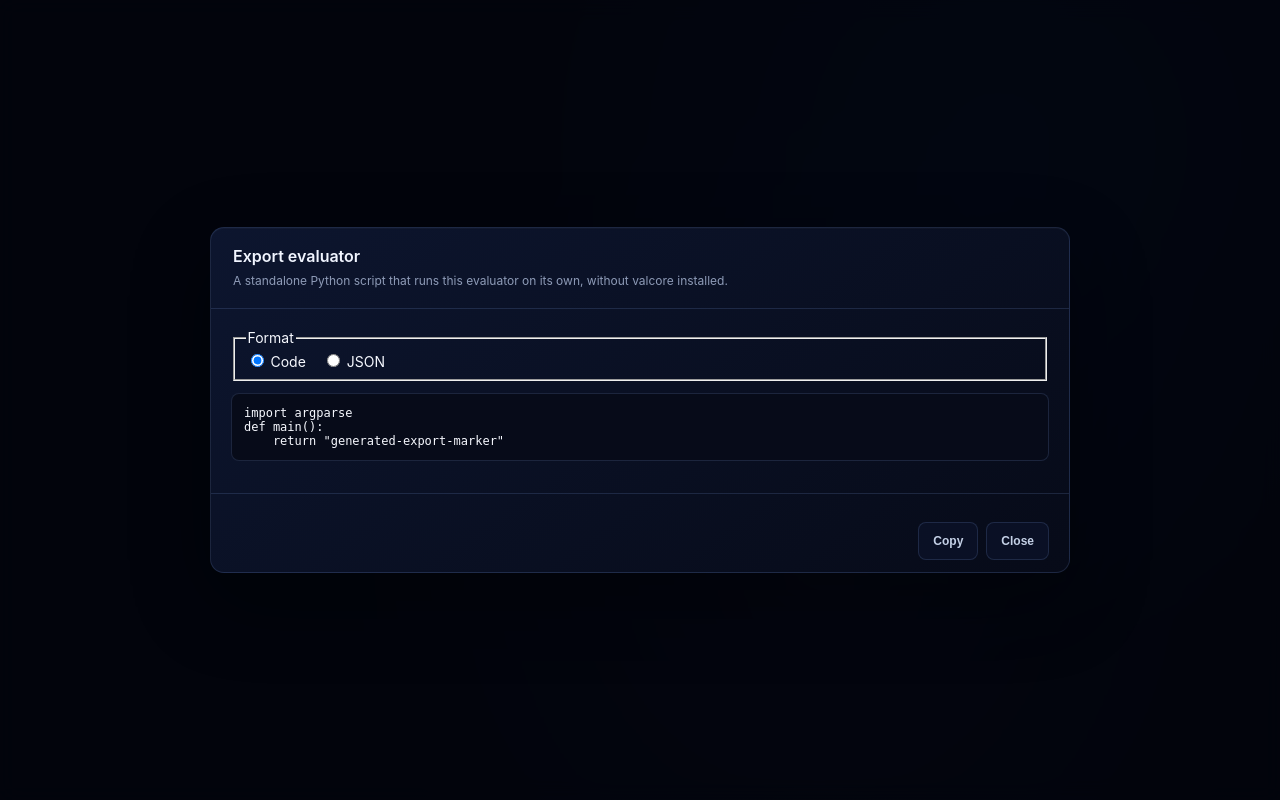
Test case: ExportModal › switching to JSON fetches the bundled package and renders one named block per file
expect the text "import argparse def main(): return \"generated-export-marker\"" is shown: met, box top-left (231, 393), bottom-right (1049, 461)
Click the radio button labelled "JSON" at (333, 361), box top-left (327, 354), bottom-right (340, 367)
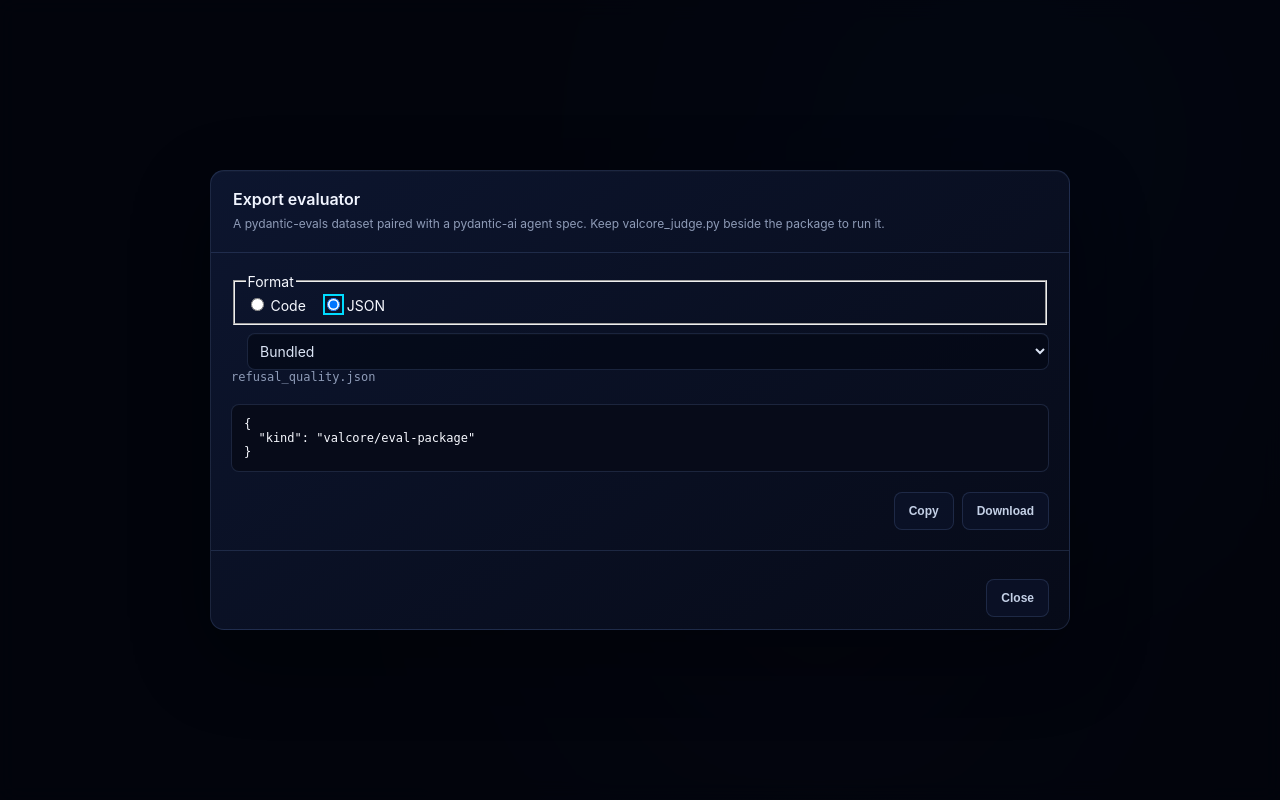
expect the text "refusal_quality.json" is shown: met, box top-left (231, 370), bottom-right (376, 384)
